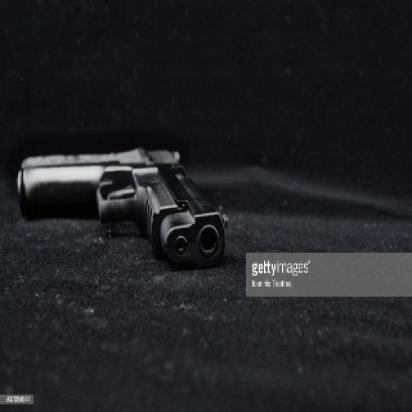Gun: (11, 145, 226, 264)
